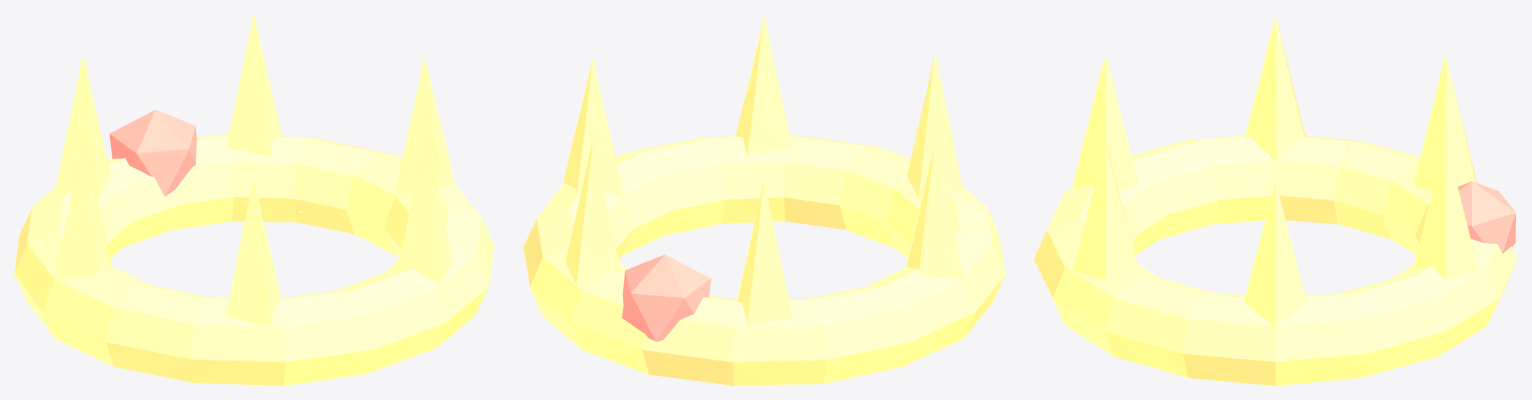
Rendered from crown.glb.
3 renders of one model, left to right at view 1: azimuth 30°, elevation 25°; view 2: azimuth 150°, elevation 25°; view 3: azimuth 270°, elevation 25°, orthographic.
Visible parts, largest first — view 1: CrownBand; view 2: CrownBand; view 3: CrownBand.
Boxes of the visible parts, <box> form: CrownBand: <box>14,14,494,385</box>; CrownBand: <box>523,15,1005,385</box>; CrownBand: <box>1034,14,1517,385</box>.
Size of the model in its own units: 0.8405 by 0.391 by 0.8383.
